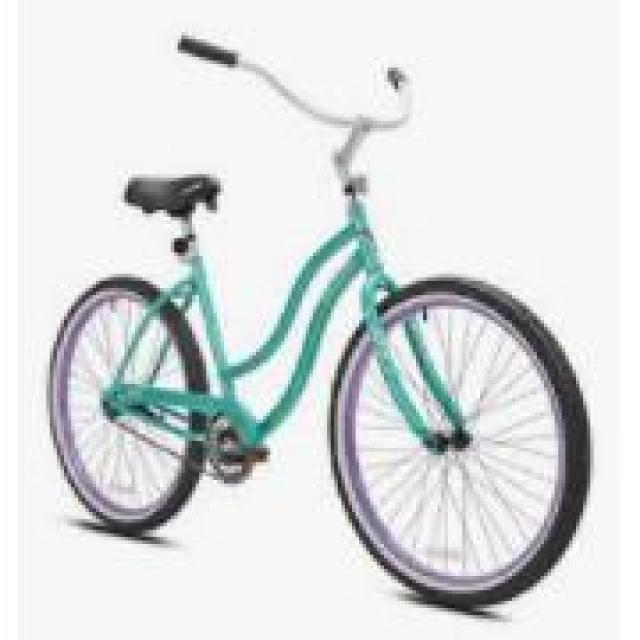bicycle: (33, 8, 581, 584)
